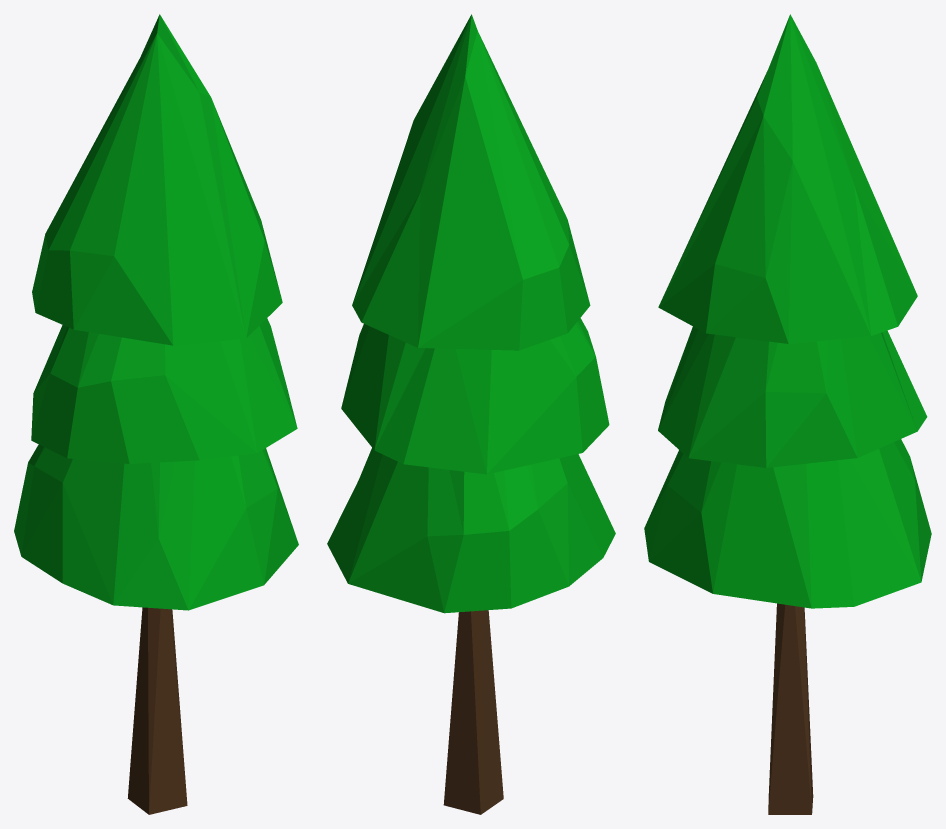
The model's file is Tree3.fbx.
The picture shows the model from 3 angles, left to right: view 1: azimuth 30°, elevation 25°; view 2: azimuth 150°, elevation 25°; view 3: azimuth 270°, elevation 25°; orthographic projection.
Parts seen in each view (by area): view 1: Tree3; view 2: Tree3; view 3: Tree3.
Part boxes in pixels (box(x1,y1,x2,y2)): Tree3: box(14, 14, 298, 814); Tree3: box(327, 14, 615, 814); Tree3: box(644, 14, 931, 814).
Size of the model in its own units: 4.08 by 12.76 by 4.19.
